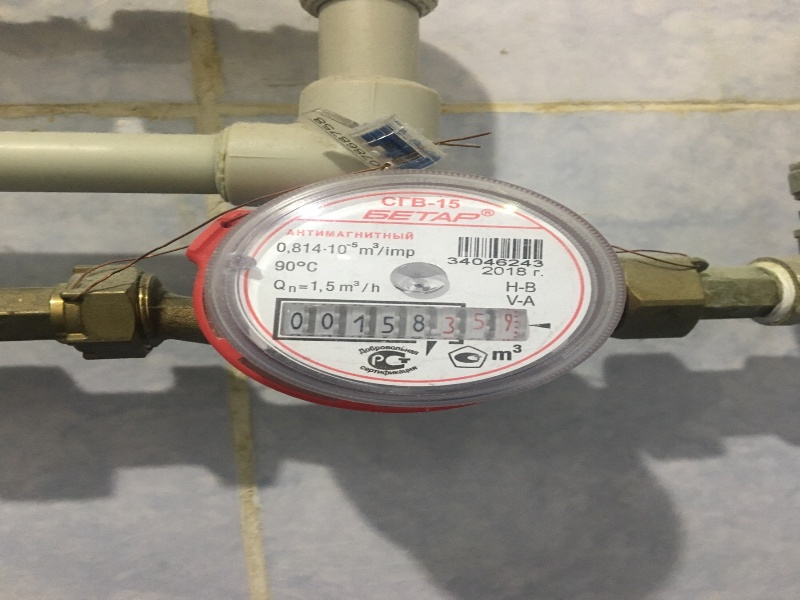meter: (277, 299, 520, 345)
